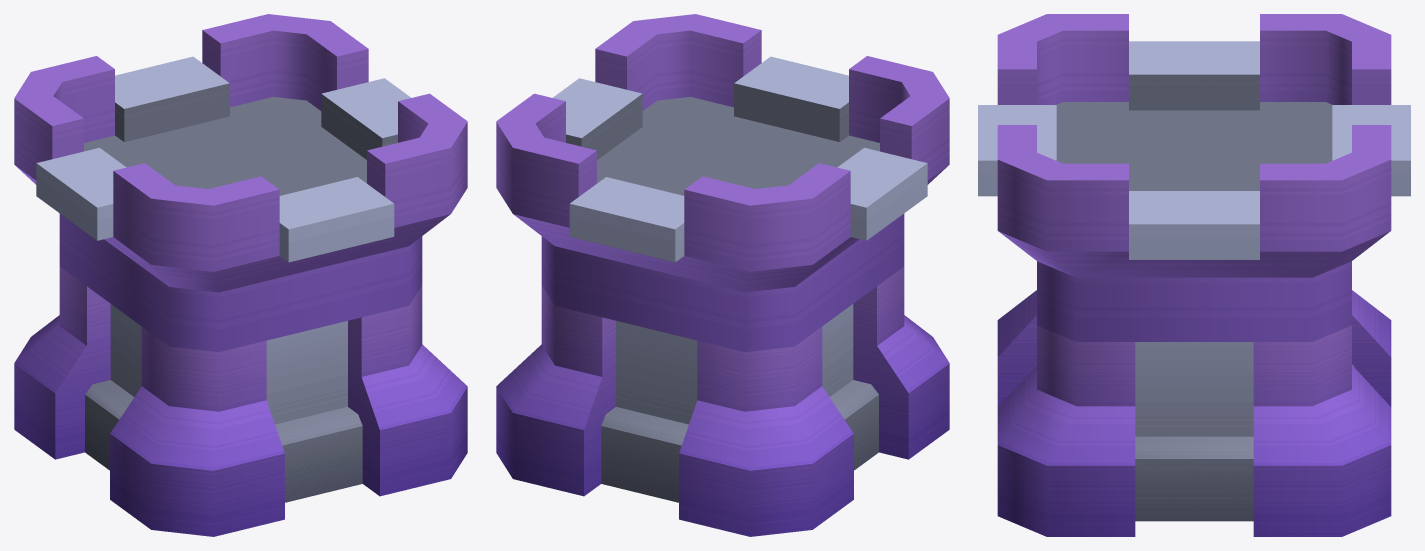
The model's file is tower-square-build-b.glb.
The picture shows the model from 3 angles, left to right: view 1: azimuth 30°, elevation 25°; view 2: azimuth 150°, elevation 25°; view 3: azimuth 270°, elevation 25°; orthographic projection. The views are drawn at different scales.
Parts seen in each view (by area): view 1: tower-square-build-b; view 2: tower-square-build-b; view 3: tower-square-build-b.
Boxes of the visible parts, <box> form: tower-square-build-b: <box>14,14,467,536</box>; tower-square-build-b: <box>496,14,949,536</box>; tower-square-build-b: <box>978,14,1410,536</box>.
Size of the model in its own units: 1.1 by 1 by 1.1.
1 material, 1 textured.
